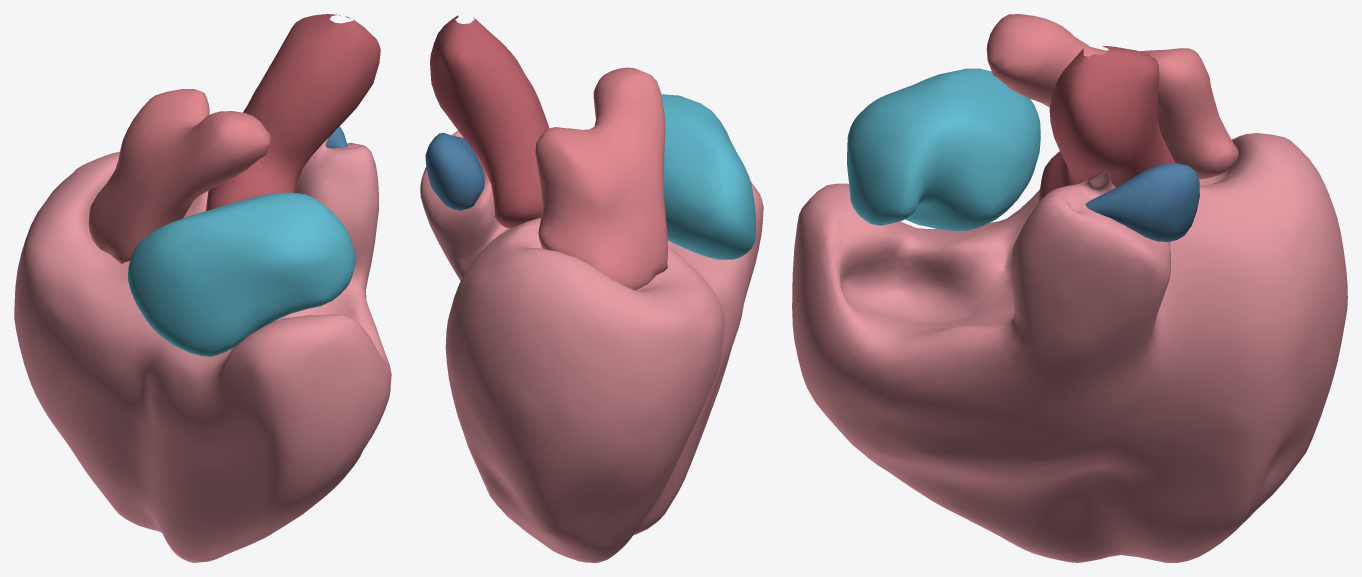
File: frame_74.glb
3 renders of one model, left to right at view 1: azimuth 30°, elevation 25°; view 2: azimuth 150°, elevation 25°; view 3: azimuth 270°, elevation 25°, orthographic. The views are drawn at different scales.
Parts seen in each view (by area): view 1: Renderer Node; view 2: Renderer Node; view 3: Renderer Node.
Part boxes in pixels (box(x1,y1,x2,y2)): Renderer Node: box(14, 14, 391, 562); Renderer Node: box(420, 15, 763, 562); Renderer Node: box(792, 14, 1347, 562).
Size of the model in its own units: 107 by 164 by 137.
